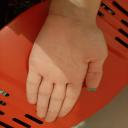OpenPalm: (25, 14, 111, 124)
